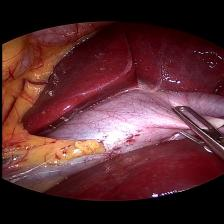Grasper: (167, 98, 224, 169)
